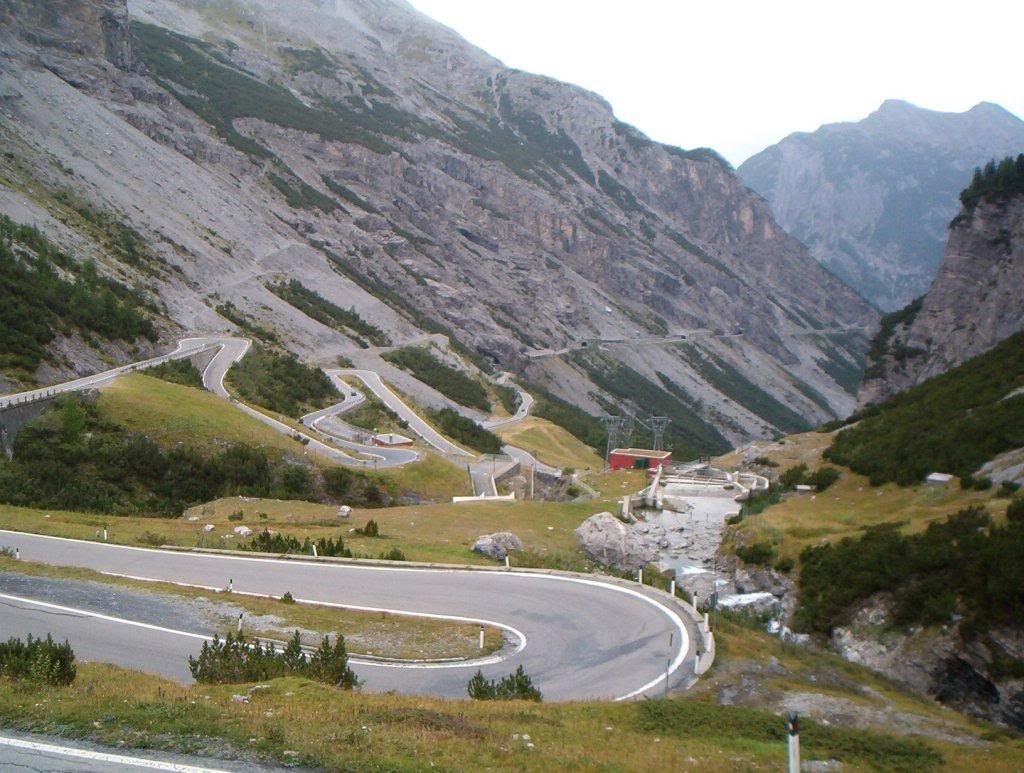strada: (47, 503, 707, 757)
